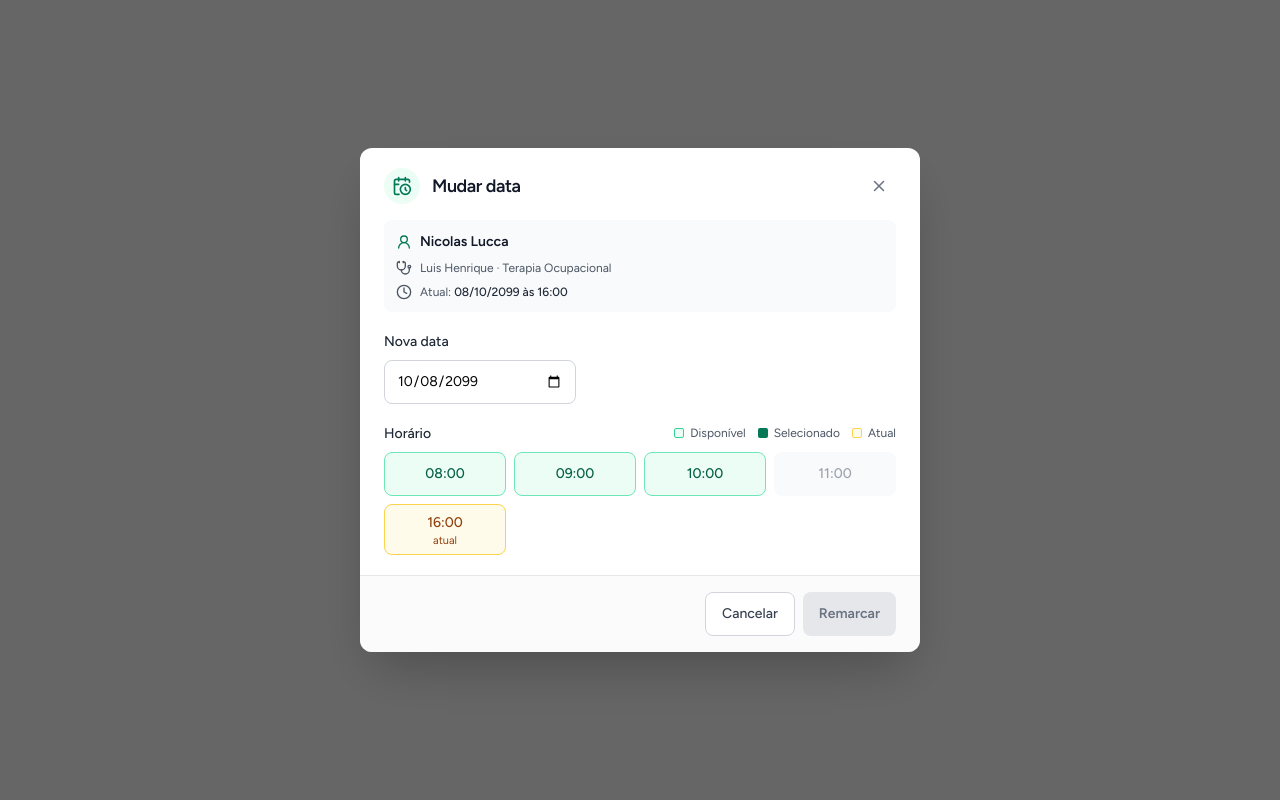
it: RescheduleDialog › mantém Confirmar desabilitado até escolher um horário diferente do atual
The width and height of the screenshot is (1280, 800).
Check: the button "Remarcar" is disabled, box [803,592,896,636]
Click the option "09:00".
click(575, 474)  # box [514,452,636,496]
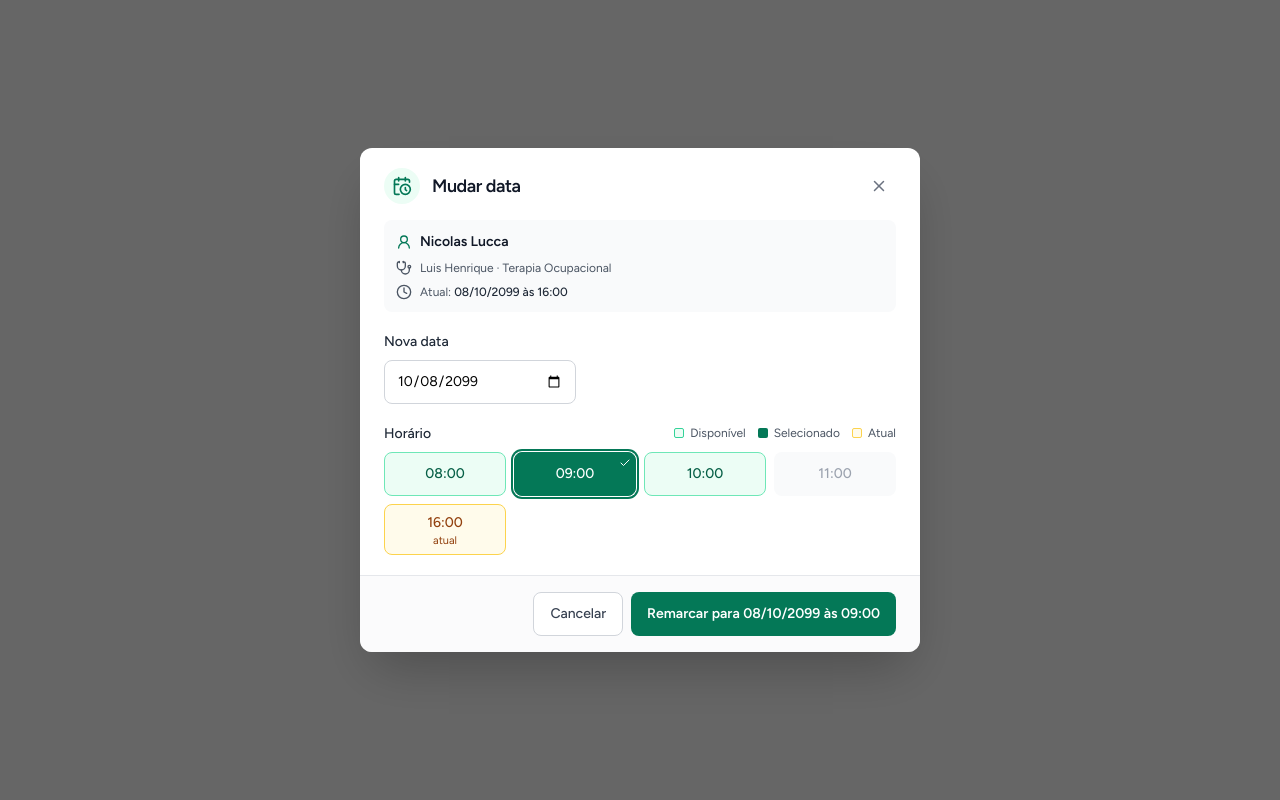
Check: the button "Remarcar para 08/10/2099 às 09:00" is enabled, box [631,592,896,636]
